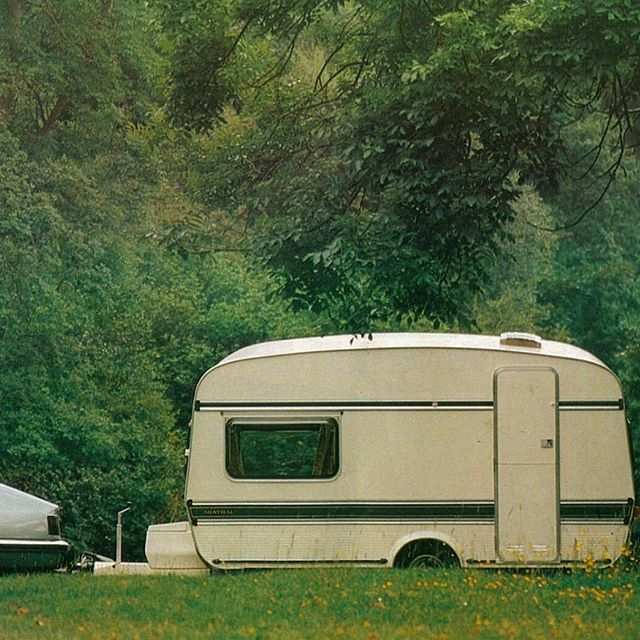grass: (6, 571, 640, 640)
trailer home: (182, 343, 640, 584)
vegetation: (1, 1, 640, 336)
